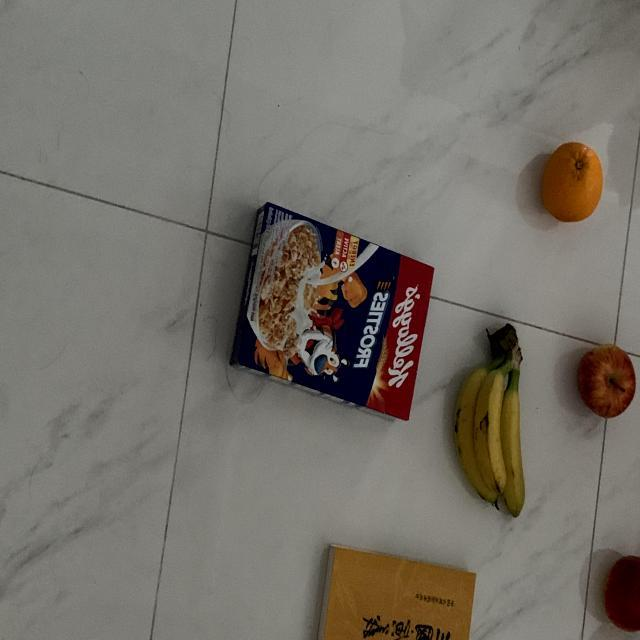apple: (569, 338, 638, 426), (601, 548, 640, 640)
banana: (450, 324, 530, 522)
orange: (536, 138, 606, 228)
